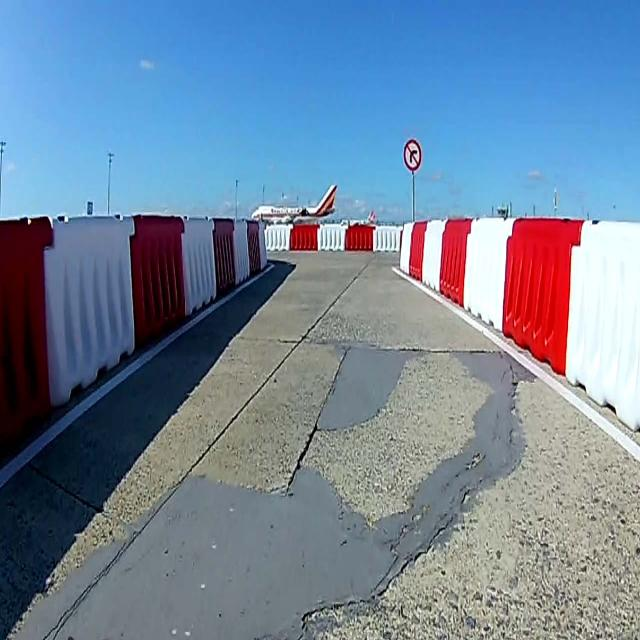sagadonulmez: (402, 138, 422, 172)
